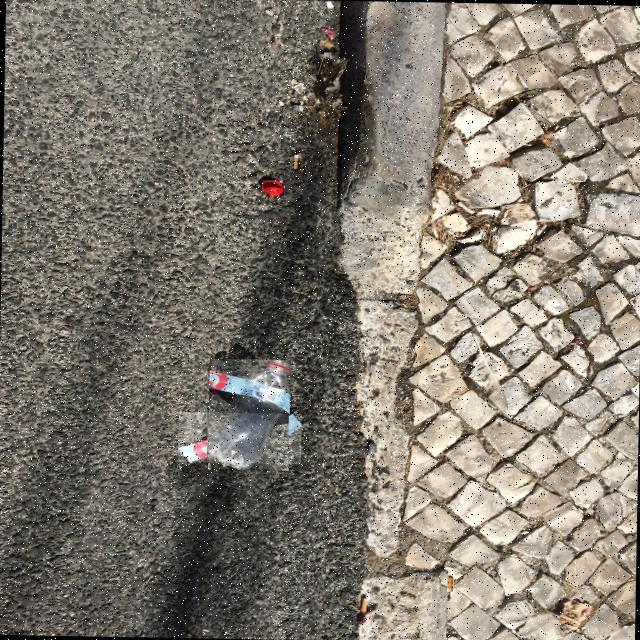Cigarette: (501, 209, 509, 224), (360, 599, 367, 613), (294, 154, 299, 169), (448, 578, 453, 590)
Clear plastic bottle: (208, 360, 289, 469)
Plastic bottle cap: (261, 181, 283, 194)
Wrapping paper: (178, 414, 301, 462)
